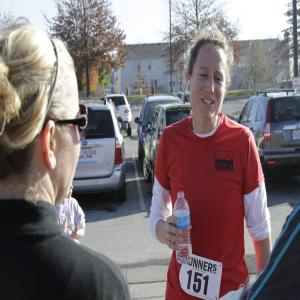Vehicle-registration-plate: (81, 148, 93, 159), (292, 130, 300, 141)
